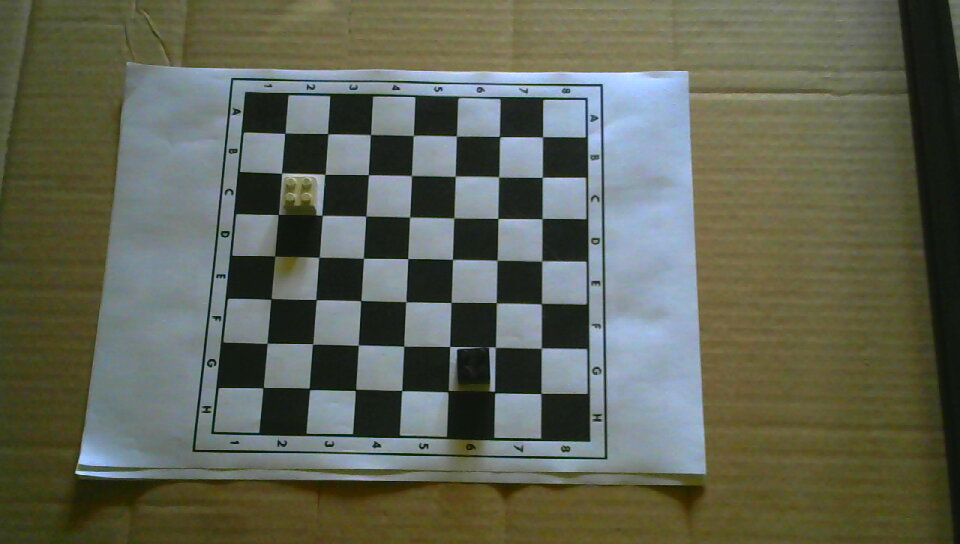bp: (454, 348, 492, 386)
wp: (281, 174, 318, 216)
